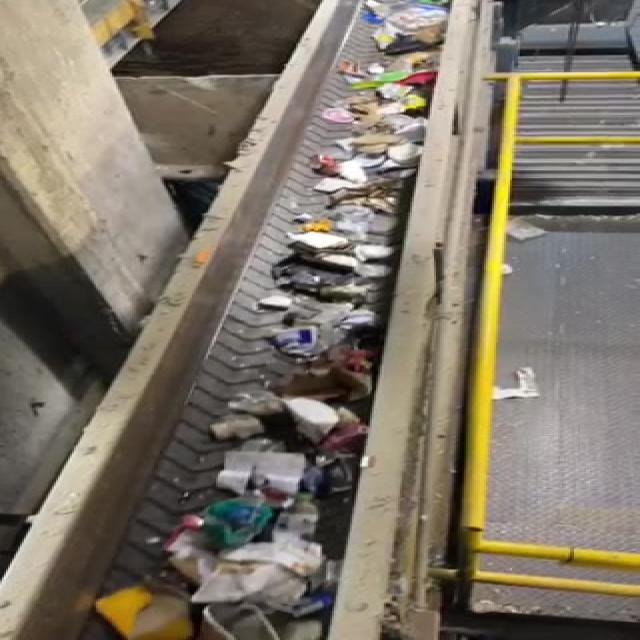paper: (96, 581, 202, 640)
